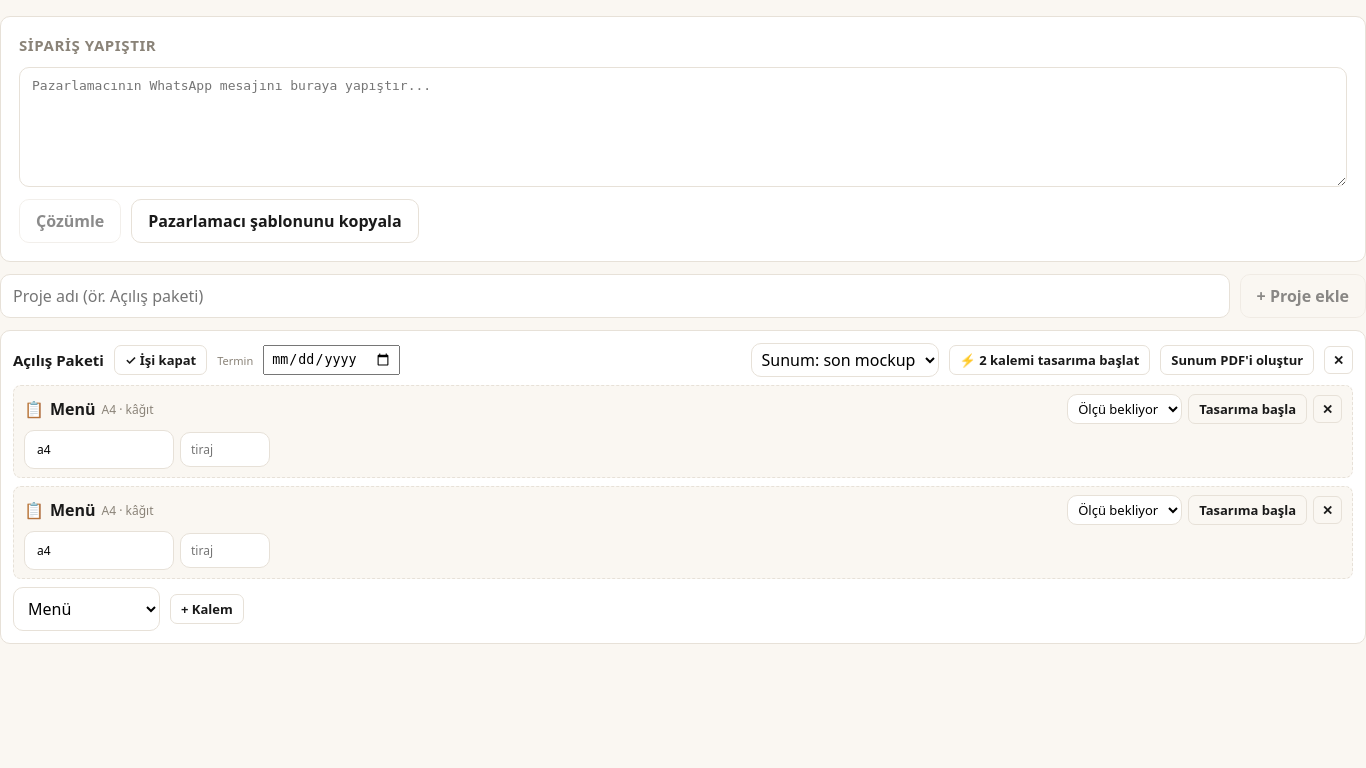
toplu başlatma düğmesi › SEÇİCİDE VAZGEÇME hiçbir belge AÇMAZ — özet vazgeçildiğini SÖYLER
Click the button "⚡ 2 kalemi tasarıma başlat": point(1050, 360) [949, 345, 1150, 375]
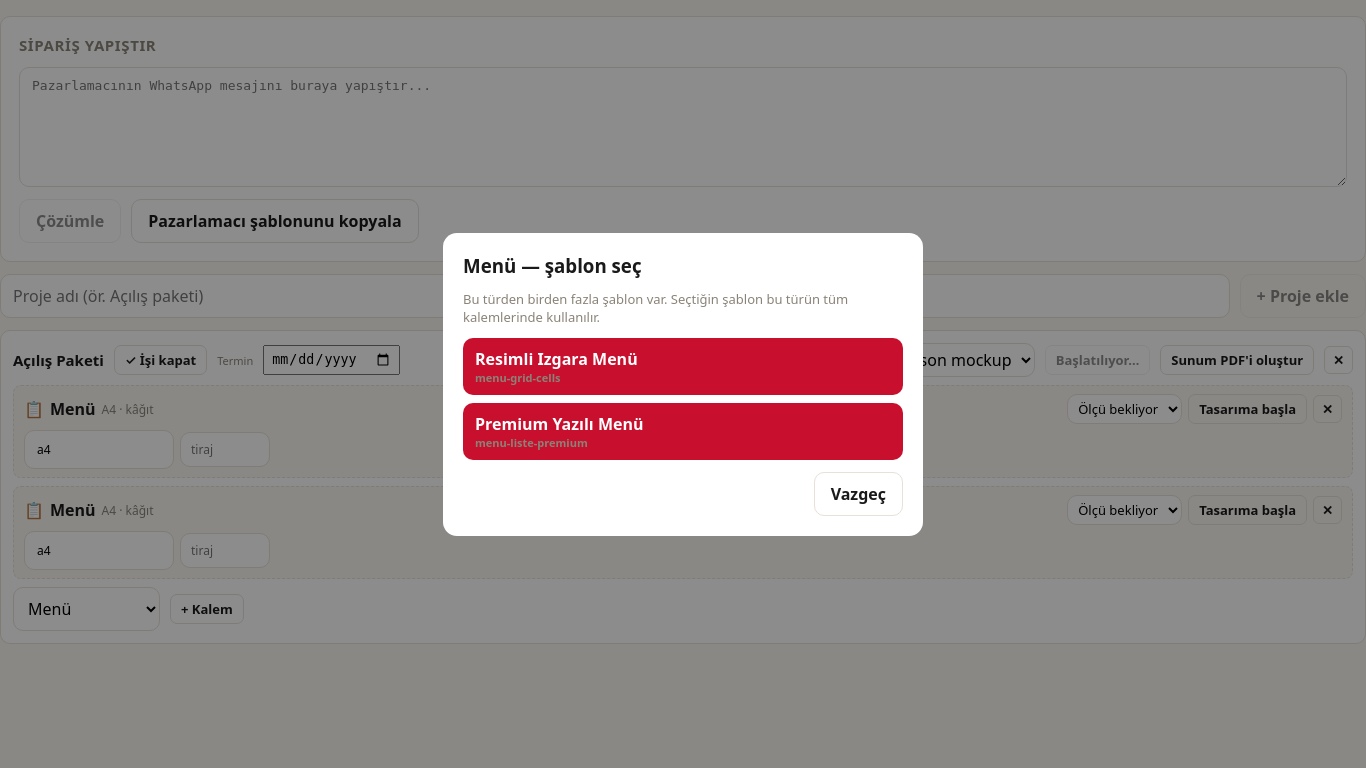
Click the button "Vazgeç": point(858, 494) [814, 472, 903, 516]
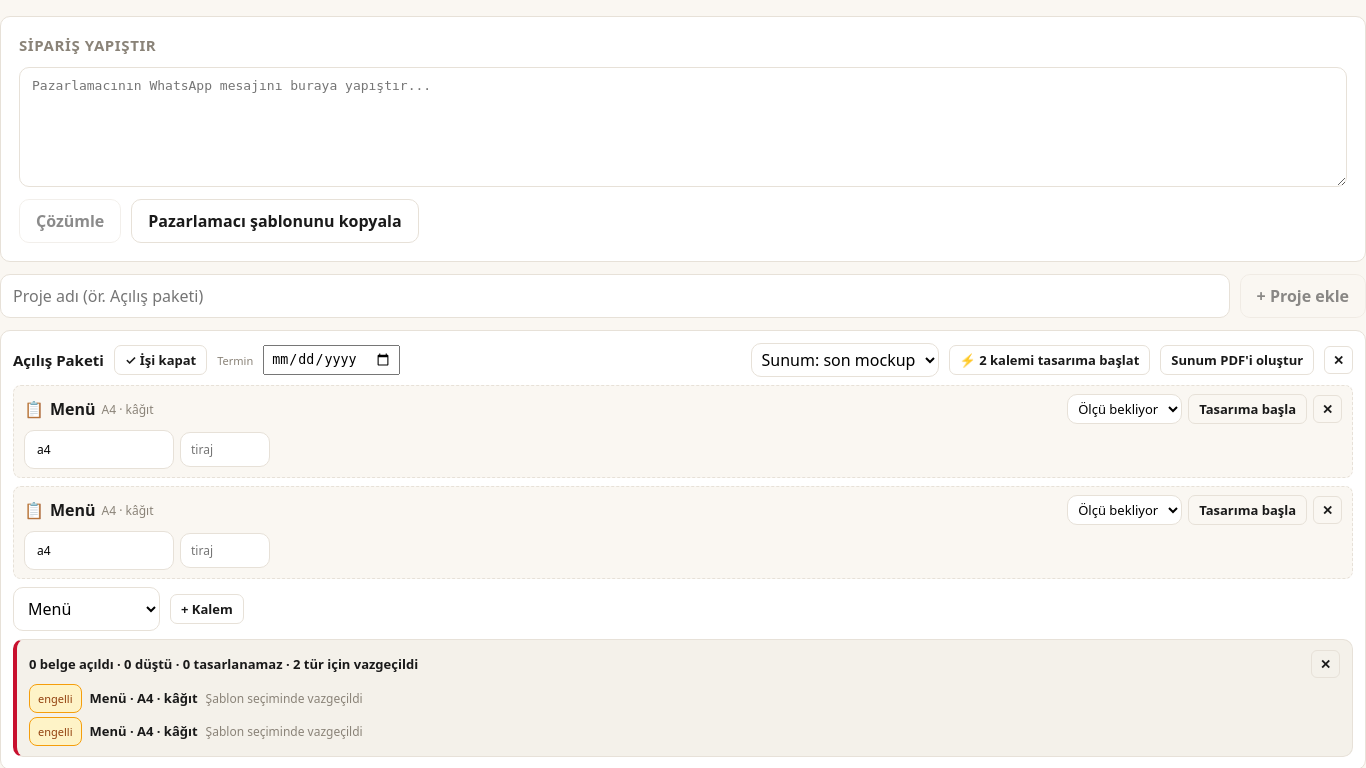
Check: the element with class "tur-sonucu" shows "vazgeçildi", box [29, 655, 418, 673]
Check: the number of elements with class "tur-sonucu-satir" is 2, box [29, 684, 363, 713]; [29, 717, 363, 746]
